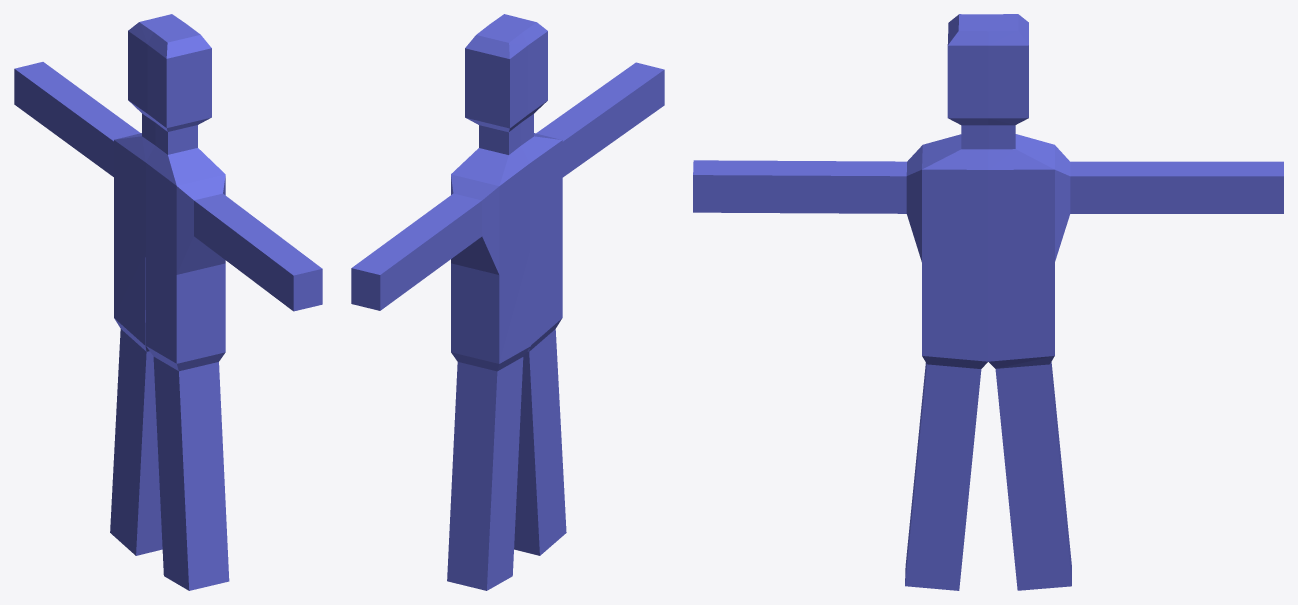
Rendered from people.dae.
3 views of the same model, side by side, from view 1: azimuth 30°, elevation 25°; view 2: azimuth 150°, elevation 25°; view 3: azimuth 270°, elevation 25° (orthographic). The views are drawn at different scales.
Parts seen in each view (by area): view 1: Cube; view 2: Cube; view 3: Cube.
Part boxes in pixels (x1,y1,x2,y2): Cube: (14,14,322,590); Cube: (351,14,664,590); Cube: (693,14,1283,590).
Size of the model in its own units: 1.21 by 11.96 by 12.46.
